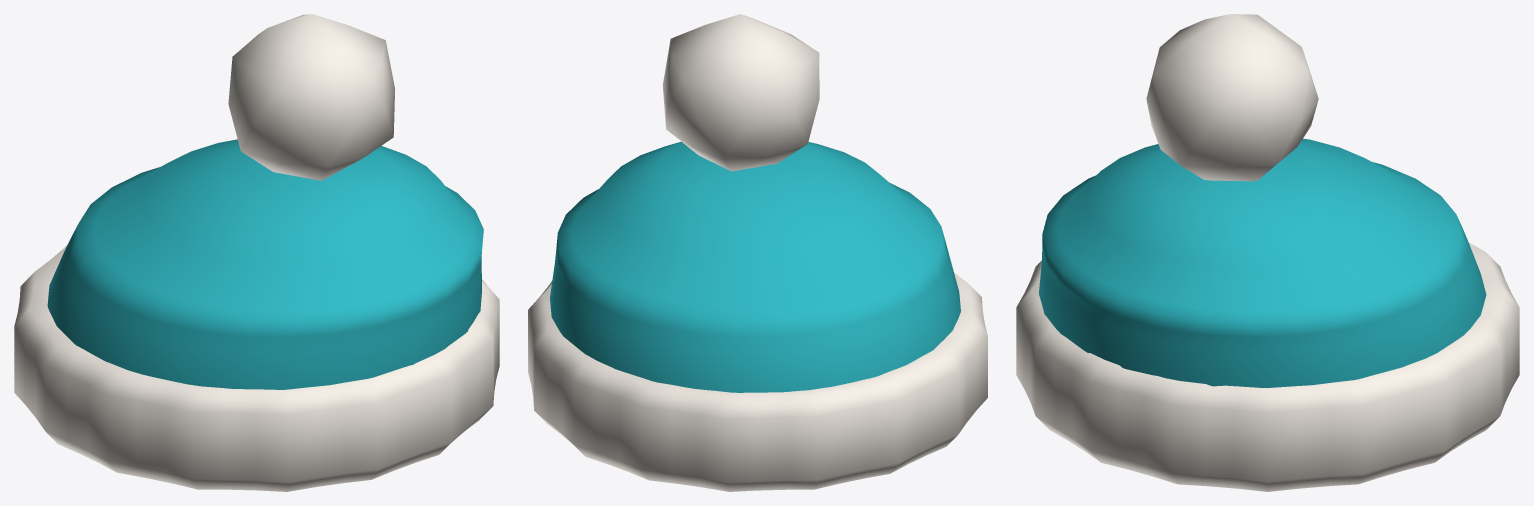
Rendered from chapeau_bonnet.fbx.
3 views of the same model, side by side, from view 1: azimuth 30°, elevation 25°; view 2: azimuth 150°, elevation 25°; view 3: azimuth 270°, elevation 25° (orthographic). The views are drawn at different scales.
Visible parts, largest first — view 1: Bonnet, Anim_Pompon; view 2: Bonnet, Anim_Pompon; view 3: Bonnet, Anim_Pompon.
Part boxes in pixels (x1,y1,x2,y2): Bonnet: (14,139,499,491); Anim_Pompon: (228,14,395,180); Bonnet: (528,141,987,491); Anim_Pompon: (662,14,819,171); Bonnet: (1016,138,1519,491); Anim_Pompon: (1146,14,1318,181).
Bounding box in the file's own units: 0.804 × 0.6996 × 0.804.
